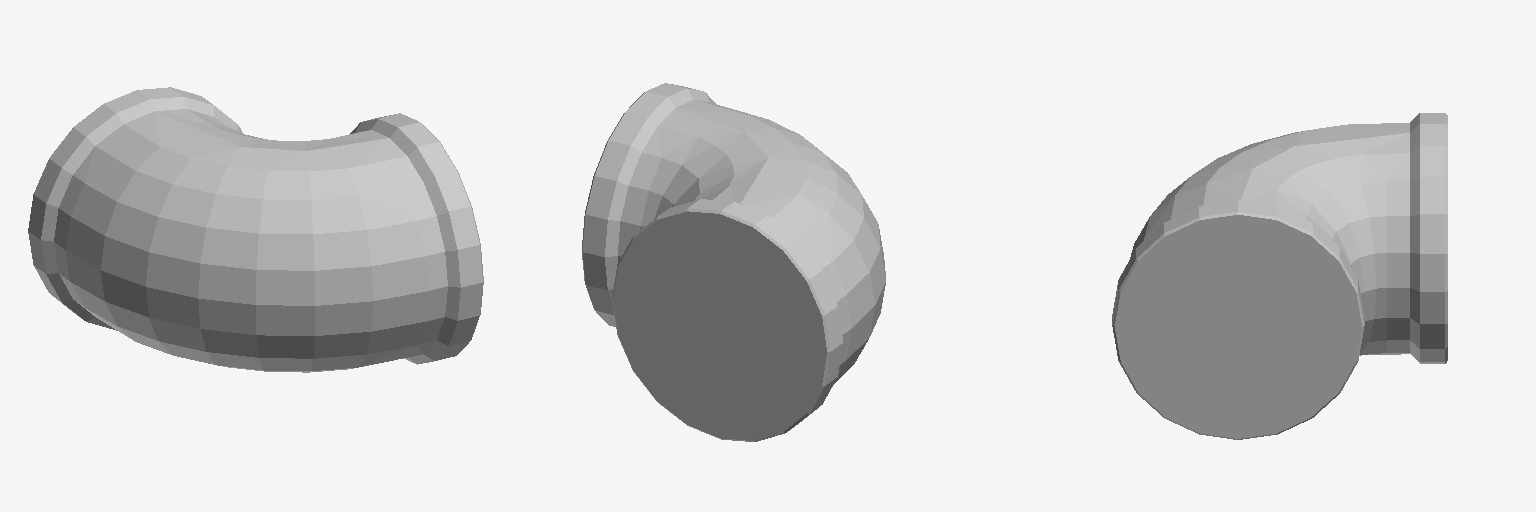
The model's file is Pipe90a.obj.
3 views of the same model, side by side, from view 1: azimuth 30°, elevation 25°; view 2: azimuth 150°, elevation 25°; view 3: azimuth 270°, elevation 25° (orthographic).
Parts seen in each view (by area): view 1: Pipe90a; view 2: Pipe90a; view 3: Pipe90a.
Boxes of the visible parts, x1,y1,x2,y2 form: Pipe90a: [28, 87, 483, 372]; Pipe90a: [582, 83, 885, 441]; Pipe90a: [1112, 113, 1447, 439].
Size of the model in its own units: 0.0719 by 0.054 by 0.0719.